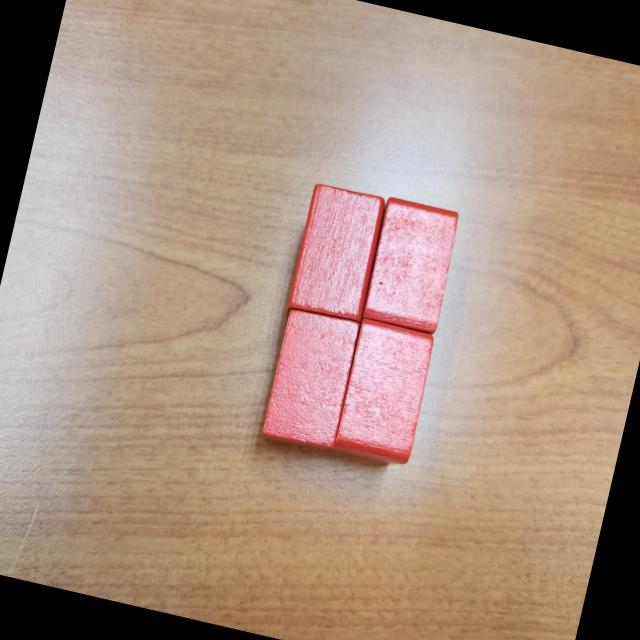red: (331, 318, 438, 472), (258, 306, 364, 454), (284, 180, 391, 326), (357, 196, 464, 336)
